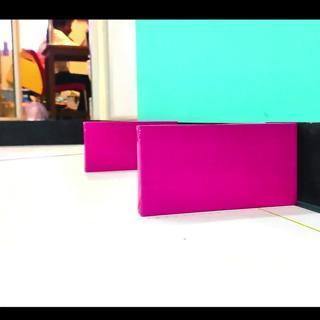xparking: (140, 126, 296, 220), (86, 122, 137, 173)
